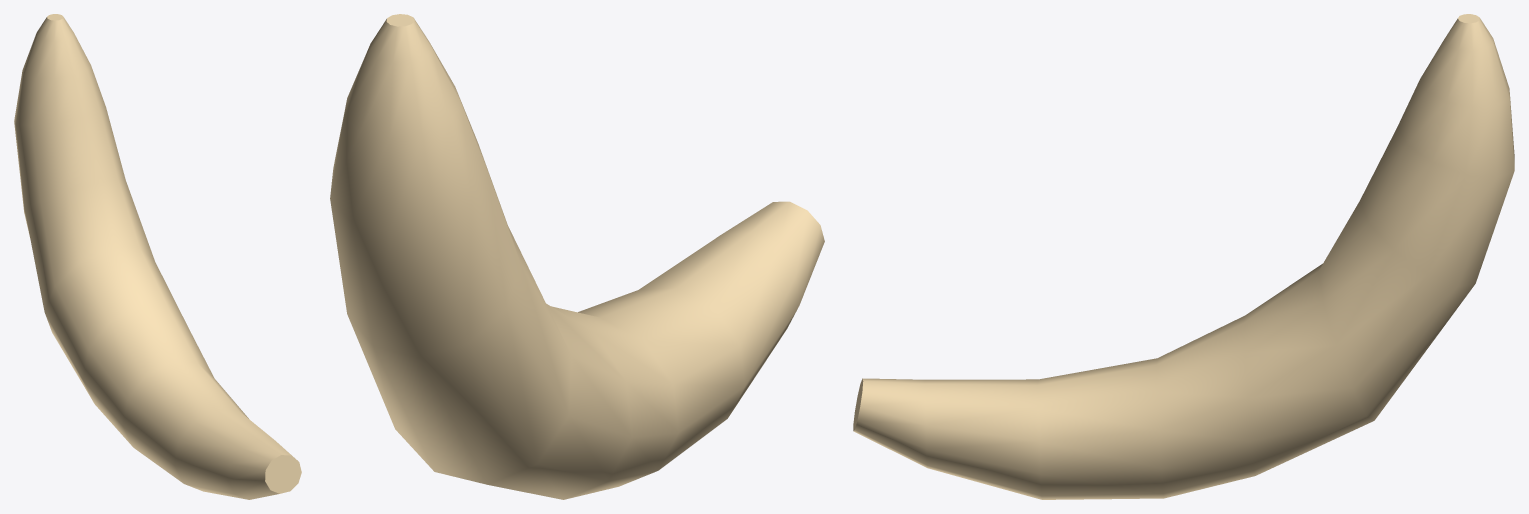
Rendered from Banana_2.fbx.
The picture shows the model from 3 angles, left to right: view 1: azimuth 30°, elevation 25°; view 2: azimuth 150°, elevation 25°; view 3: azimuth 270°, elevation 25°; orthographic projection. The views are drawn at different scales.
Parts seen in each view (by area): view 1: Banana_2; view 2: Banana_2; view 3: Banana_2.
Part boxes in pixels (x1,y1,x2,y2): Banana_2: (14,14,301,499); Banana_2: (330,14,824,499); Banana_2: (853,14,1514,499).
Bounding box in the file's own units: 0.0384 × 0.1194 × 0.151.
